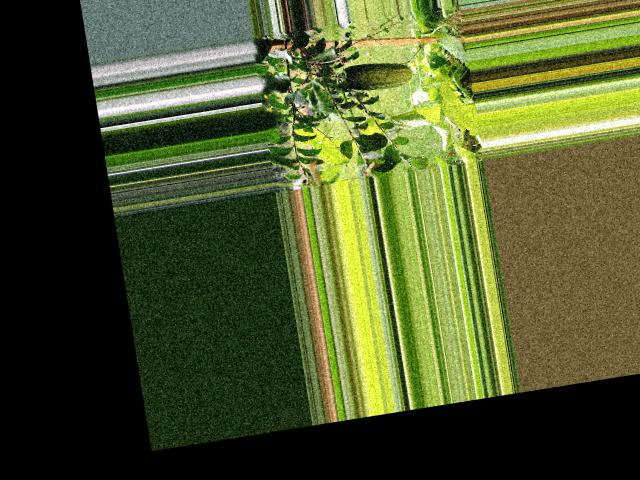cucumber: (334, 55, 413, 95)
